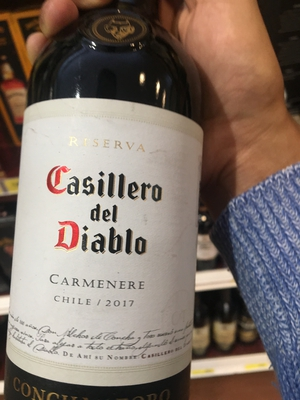casillero del diablo carmenere: (1, 25, 218, 400)
